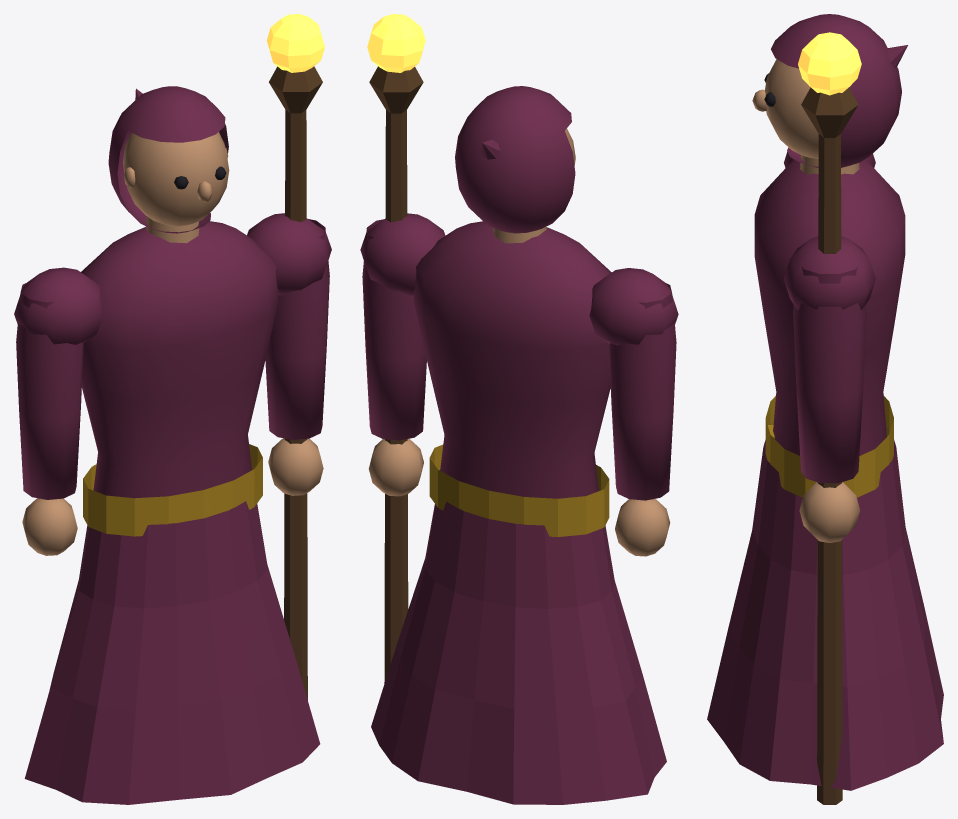
Rendered from human_warlock.glb.
The picture shows the model from 3 angles, left to right: view 1: azimuth 30°, elevation 25°; view 2: azimuth 150°, elevation 25°; view 3: azimuth 270°, elevation 25°; orthographic projection. The views are drawn at different scales.
Parts seen in each view (by area): view 1: Body, ArmR, Head, ArmL; view 2: Body, ArmR, Head, ArmL; view 3: Body, ArmR, Head.
Part boxes in pixels (x1,y1,x2,y2): Body: (14, 213, 331, 804); ArmR: (265, 14, 329, 700); Head: (108, 86, 229, 233); ArmL: (16, 283, 83, 555); Body: (360, 213, 678, 804); ArmR: (362, 14, 426, 683); Head: (455, 86, 575, 233); ArmL: (609, 283, 676, 556); Body: (707, 152, 943, 790); ArmR: (793, 32, 866, 804); Head: (752, 14, 907, 167).
Size of the model in its own units: 1.16 by 2.64 by 0.7409.
